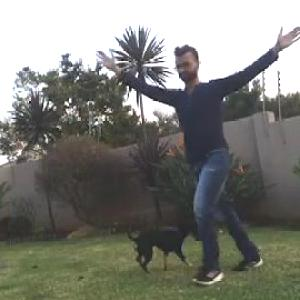takeoff: (130, 24, 292, 254)
